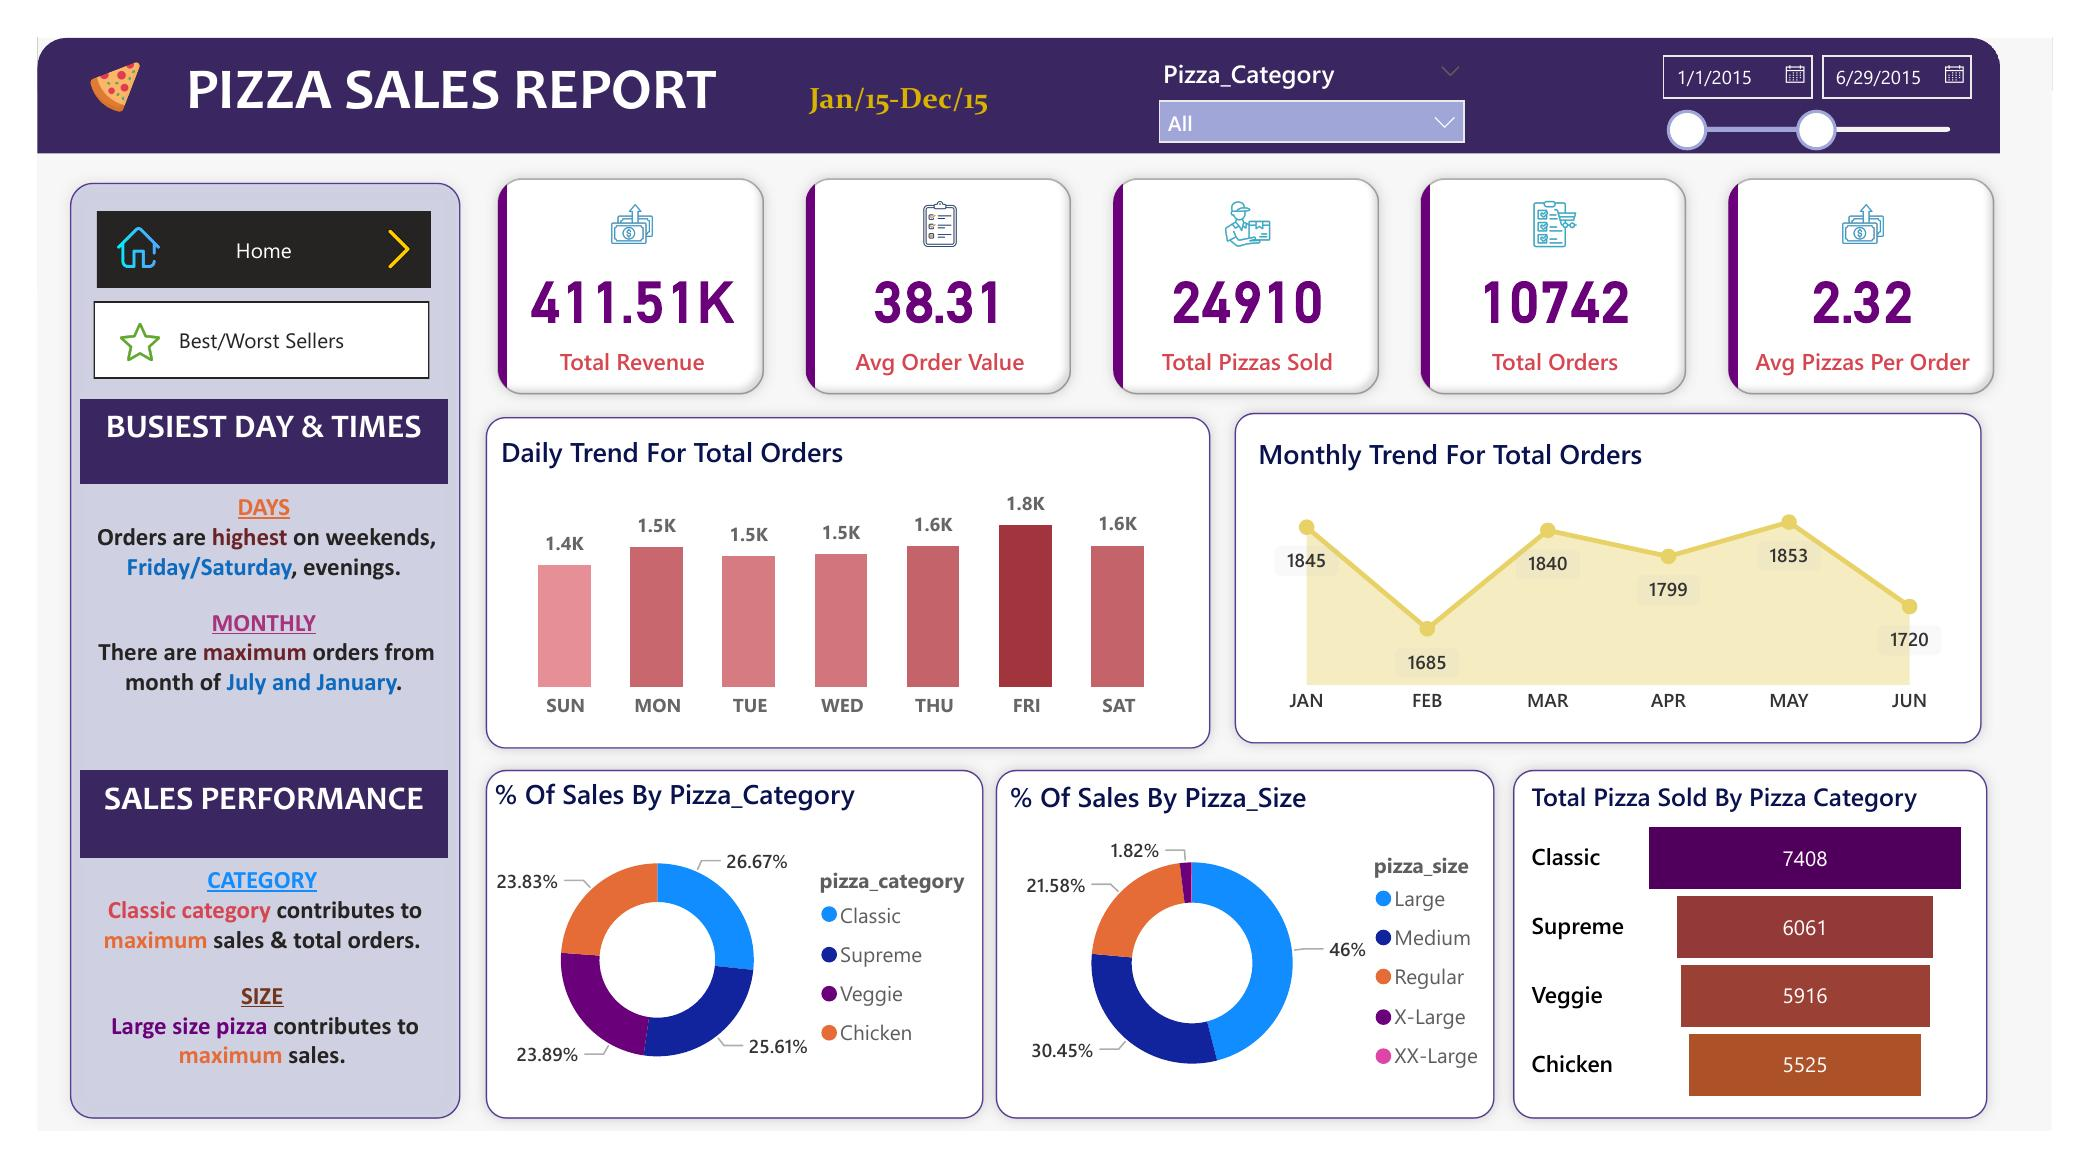

What the dashboard file says about the page in this screenshot:
{"tool":"powerbi","page":{"name":"Home","canvas":[1290,700],"ordinal":0},"visuals":[{"type":"cardVisual","fields":{"Data":["pizza_sales.Total Revenue","pizza_sales.Avg Order Value","pizza_sales.Total Pizzas Sold","pizza_sales.Total Orders","pizza_sales.Avg Pizzas Per Order"]},"box":[278.6,74.2,994,169.4],"z":0},{"type":"shape","box":[758.8,232.4,494.2,228.2],"z":0,"group":"g1"},{"type":"shape","box":[12.6,0,1257.2,74.2],"z":1000,"group":"g4"},{"type":"shape","box":[12.6,85.4,266,614.6],"z":1000},{"type":"areaChart","title":"Monthly  Trend For Total Orders","fields":{"Y":["pizza_sales.Total Orders"],"Category":["pizza_sales.Order Month"]},"box":[776.8,254.2,458,189],"z":1000,"group":"g1"},{"type":"textbox","box":[87.5,4.2,381.3,56],"z":2000,"group":"g4"},{"type":"group","id":"g1","title":"Group 1","box":[758.8,232.4,494.2,228.2],"z":2000},{"type":"textbox","box":[498.7,22.4,131.3,39.2],"z":3000,"group":"g4"},{"type":"textbox","box":[26.6,231,236.6,54.6],"z":3000},{"type":"image","box":[35.8,9.8,51.7,43.4],"z":4000,"group":"g4"},{"type":"shape","box":[278.6,235.2,480.2,228.2],"z":4000,"group":"g6"},{"type":"group","id":"g2","title":"Group 3","box":[606.2,460.6,334.6,239.4],"z":4000},{"type":"group","id":"g3","title":"Group 4","box":[278.6,460.6,334.6,239.4],"z":5000},{"type":"columnChart","title":"Daily Trend For Total Orders","fields":{"Category":["pizza_sales.Order Day"],"Y":["pizza_sales.Total Orders"]},"box":[291.8,252.9,446.6,193.2],"z":6000,"group":"g6"},{"type":"shape","box":[278.6,460.6,334.6,239.4],"z":6000,"group":"g3"},{"type":"textbox","box":[26.6,469,236.6,56],"z":6000},{"type":"group","id":"g4","title":"Group 5","box":[12.6,0,1257.2,700],"z":7000},{"type":"textbox","box":[25.2,525,238,156.8],"z":8000},{"type":"shape","box":[949.2,460.6,320.6,239.4],"z":9000,"group":"g4"},{"type":"funnel","title":"Total Pizza Sold By Pizza Category","fields":{"Category":["pizza_sales.pizza_category"],"Y":["pizza_sales.Total Pizzas Sold"]},"box":[964.6,474.6,289.8,212.8],"z":9000},{"type":"slicer","fields":{"Values":["pizza_sales.pizza_category"]},"box":[708.4,7,215.6,60.2],"z":10000},{"type":"shape","box":[606.2,460.6,334.6,239.4],"z":10000,"group":"g2"},{"type":"donutChart","title":"% Of Sales By Pizza_Category","fields":{"Category":["pizza_sales.pizza_category"],"Y":["pizza_sales.Total Revenue"]},"box":[288,471.9,317.2,214.2],"z":10000,"group":"g3"},{"type":"slicer","fields":{"Values":["pizza_sales.order_date"]},"box":[1027.6,1.4,218.4,72.8],"z":11000},{"type":"donutChart","title":"% Of Sales By Pizza_Size","fields":{"Y":["pizza_sales.Total Revenue"],"Category":["pizza_sales.pizza_size"]},"box":[617.8,473.2,323,214.2],"z":11002,"group":"g2"},{"type":"textbox","box":[26.6,285.6,236.6,182],"z":12000},{"type":"group","id":"g5","title":"Group 2","box":[278.6,235.2,480.2,228.2],"z":13000},{"type":"group","id":"g6","title":"Group 6","box":[278.6,235.2,480.2,228.2],"z":13001,"group":"g5"},{"type":"pageNavigator","box":[37.8,110.6,214.2,49],"z":14000},{"type":"pageNavigator","box":[36.4,169.4,214.2,49],"z":15000},{"type":"image","box":[211.4,117.6,40.6,35],"z":16000},{"type":"image","box":[46.2,114.8,36.4,37.8],"z":17000},{"type":"image","box":[47.6,170.8,35,46.2],"z":18000}]}

Visuals, with their boxes on the page's 1290x700 design canvas (x1, y1, x2, y2). These are canvas units, not pixel positions in the 2090x1169 screenshot, which may show the page scaled, cropped or inside an application window:
cardVisual - pizza_sales.Total Revenue x pizza_sales.Avg Order Value: 279,74,1273,244
shape: 759,232,1253,461
shape: 13,0,1270,74
shape: 13,85,279,700
"Monthly  Trend For Total Orders" areaChart: 777,254,1235,443
textbox: 88,4,469,60
"Group 1" group: 759,232,1253,461
textbox: 499,22,630,62
textbox: 27,231,263,286
image: 36,10,88,53
shape: 279,235,759,463
"Group 3" group: 606,461,941,700
"Group 4" group: 279,461,613,700
"Daily Trend For Total Orders" columnChart: 292,253,738,446
shape: 279,461,613,700
textbox: 27,469,263,525
"Group 5" group: 13,0,1270,700
textbox: 25,525,263,682
shape: 949,461,1270,700
"Total Pizza Sold By Pizza Category" funnel: 965,475,1254,687
slicer - pizza_sales.pizza_category: 708,7,924,67
shape: 606,461,941,700
"% Of Sales By Pizza_Category" donutChart: 288,472,605,686
slicer - pizza_sales.order_date: 1028,1,1246,74
"% Of Sales By Pizza_Size" donutChart: 618,473,941,687
textbox: 27,286,263,468
"Group 2" group: 279,235,759,463
"Group 6" group: 279,235,759,463
pageNavigator: 38,111,252,160
pageNavigator: 36,169,251,218
image: 211,118,252,153
image: 46,115,83,153
image: 48,171,83,217
